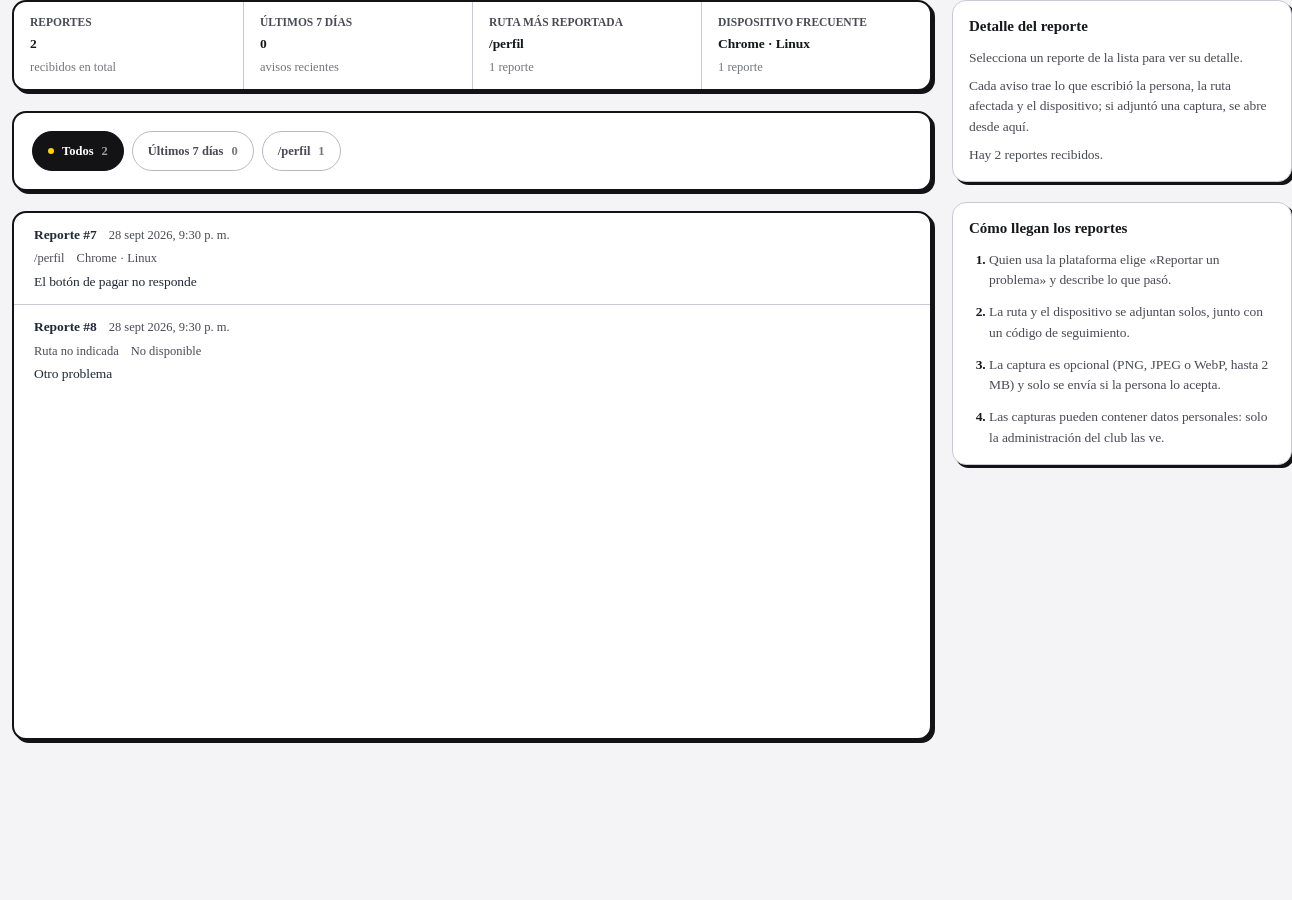
it: bandeja de reportes › opens the detail with human labels, tracking code in details and keeps the selection visible
Click the button "Reporte #7" at x=62, y=235, box x1=14 y1=213 x2=930 y2=304
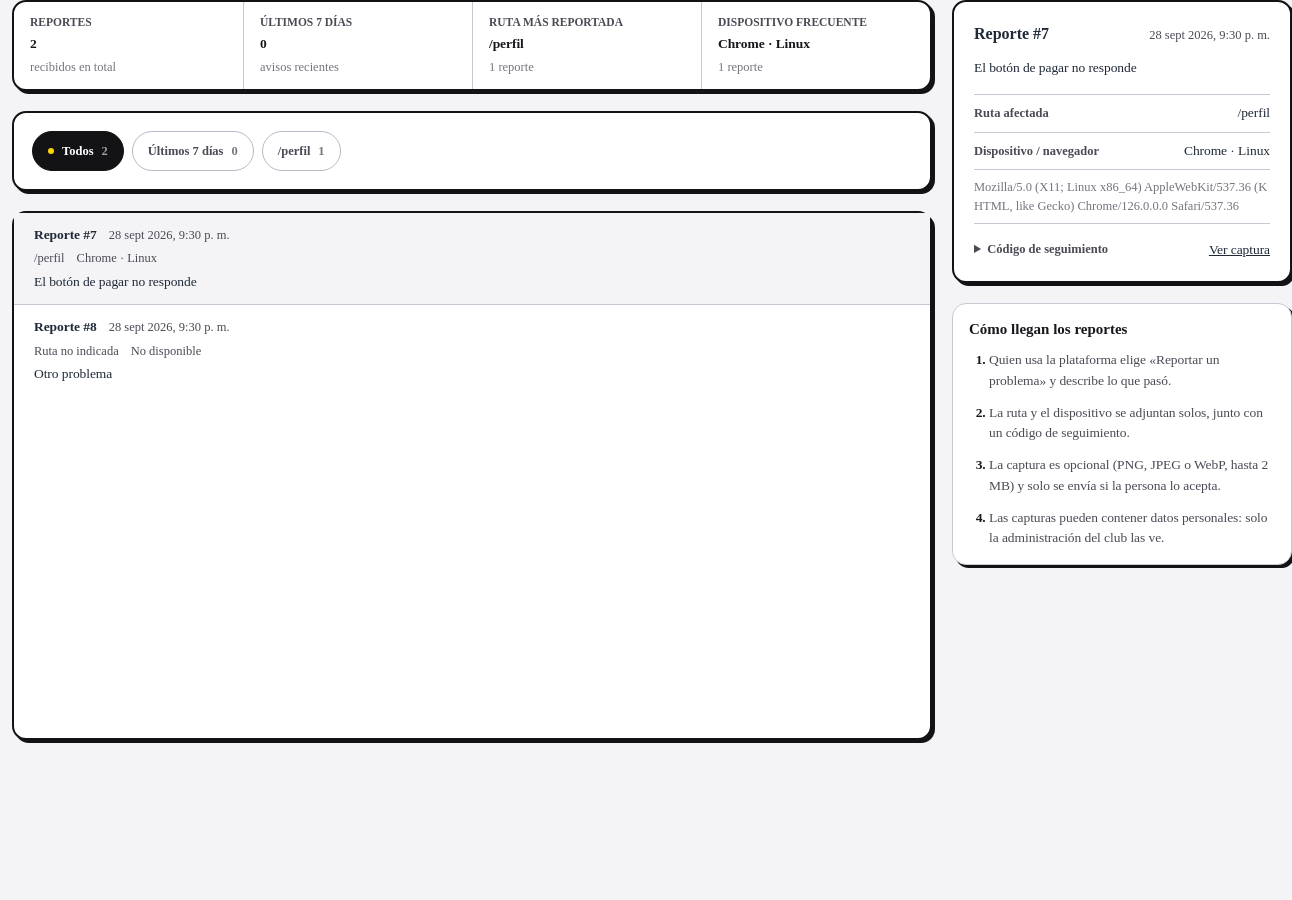
Expected: the text "/perfil" in the row of "Ruta afectada" is shown, x1=1238 y1=105 x2=1270 y2=120
Expected: the text "Dispositivo / navegador" is shown, x1=974 y1=142 x2=1099 y2=160
Expected: the text "Chrome · Linux" next to "Dispositivo / navegador" is shown, x1=1184 y1=142 x2=1270 y2=158
Click the button "Reporte #8" at x=62, y=327, box x1=14 y1=305 x2=930 y2=397
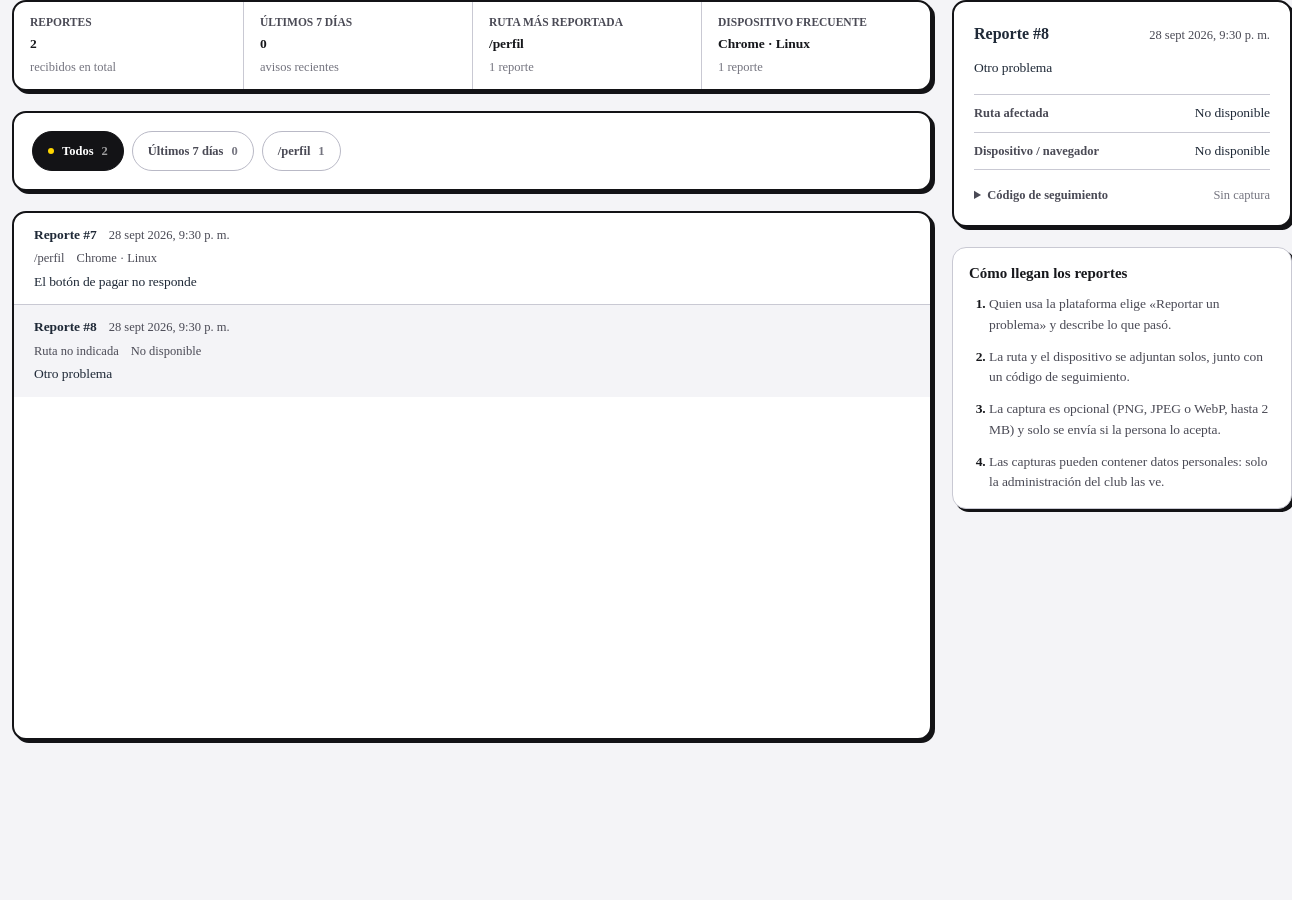
Expected: the element named "Detalle del reporte 8" is shown, x1=952 y1=0 x2=1291 y2=226
